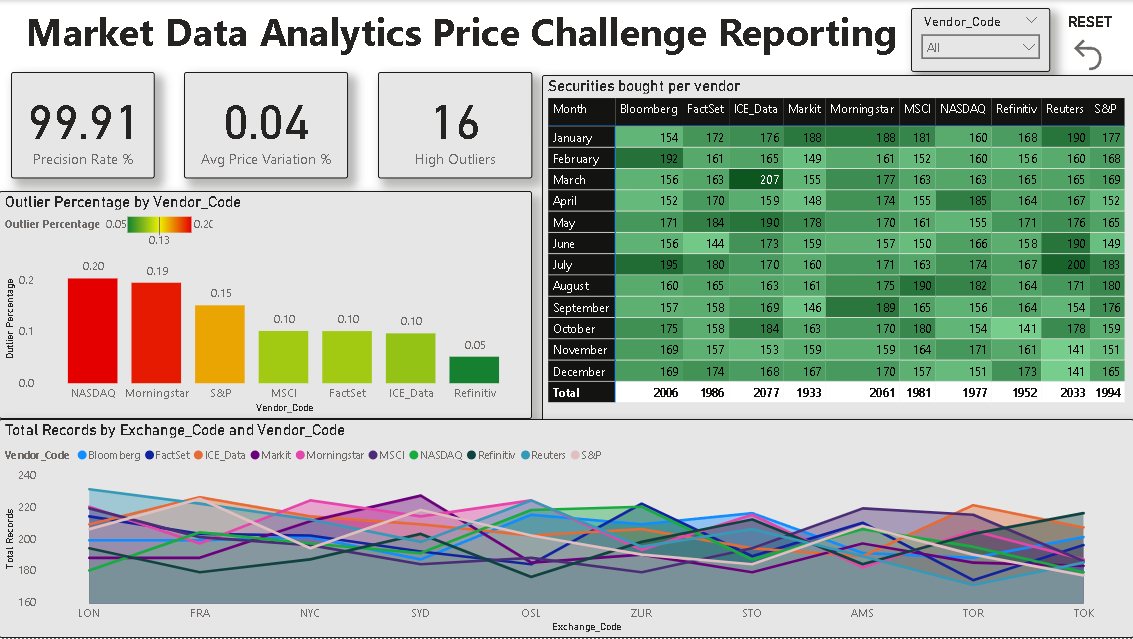

The dashboard page shown, as its layout file describes it:
{"tool":"powerbi","page":{"name":"Overview 2","canvas":[1280,720],"ordinal":1},"visuals":[{"type":"textbox","box":[0,0,1044.6,72],"z":0},{"type":"card","fields":{"Values":["DAX Measures.Precision Rate %"]},"box":[13.5,81.2,162.4,119.5],"z":1000},{"type":"card","fields":{"Values":["DAX Measures.Avg Price Variation %"]},"box":[208.6,81.2,185,119.5],"z":2000},{"type":"card","fields":{"Values":["DAX Measures.High Outliers"]},"box":[427.4,81.2,173.7,119.5],"z":3000},{"type":"slicer","fields":{"Values":["Dim_Vendor.Vendor_Code"]},"box":[1018.4,9,156.8,72.2],"z":4000},{"type":"columnChart","fields":{"Category":["Dim_Vendor.Vendor_Code"],"Y":["DAX Measures.Outlier Percentage"]},"box":[0,215,601.1,256.8],"z":5000},{"type":"pivotTable","title":"Securities bought per vendor","fields":{"Values":["DAX Measures.Total Records"],"Rows":["Dim_Date.Date.Variation.Date Hierarchy.Year","Dim_Date.Date.Variation.Date Hierarchy.Month","Dim_Date.Date.Variation.Date Hierarchy.Day"],"Columns":["Dim_Vendor.Vendor_Code"]},"box":[612.4,84.6,667.6,393.6],"z":6000},{"type":"areaChart","fields":{"Category":["Fact_Price_Details.Exchange_Code"],"Y":["DAX Measures.Total Records"],"Series":["Dim_Vendor.Vendor_Code"]},"box":[0,472.5,1280,247],"z":7000},{"type":"actionButton","title":"RESET","box":[1190.9,9,89.1,75.6],"z":7001}]}

Visuals, with their boxes in screenshot pixels (x1, y1, x2, y2), scaled from the page's 1280x720 canvas onto the 1133x639 screenshot:
textbox: bbox=[0, 0, 925, 64]
card - DAX Measures.Precision Rate %: bbox=[12, 72, 156, 178]
card - DAX Measures.Avg Price Variation %: bbox=[185, 72, 348, 178]
card - DAX Measures.High Outliers: bbox=[378, 72, 532, 178]
slicer - Dim_Vendor.Vendor_Code: bbox=[901, 8, 1040, 72]
columnChart - Dim_Vendor.Vendor_Code x DAX Measures.Outlier Percentage: bbox=[0, 191, 532, 419]
"Securities bought per vendor" pivotTable: bbox=[542, 75, 1132, 424]
areaChart - Fact_Price_Details.Exchange_Code x DAX Measures.Total Records: bbox=[0, 419, 1132, 638]
"RESET" actionButton: bbox=[1054, 8, 1132, 75]
